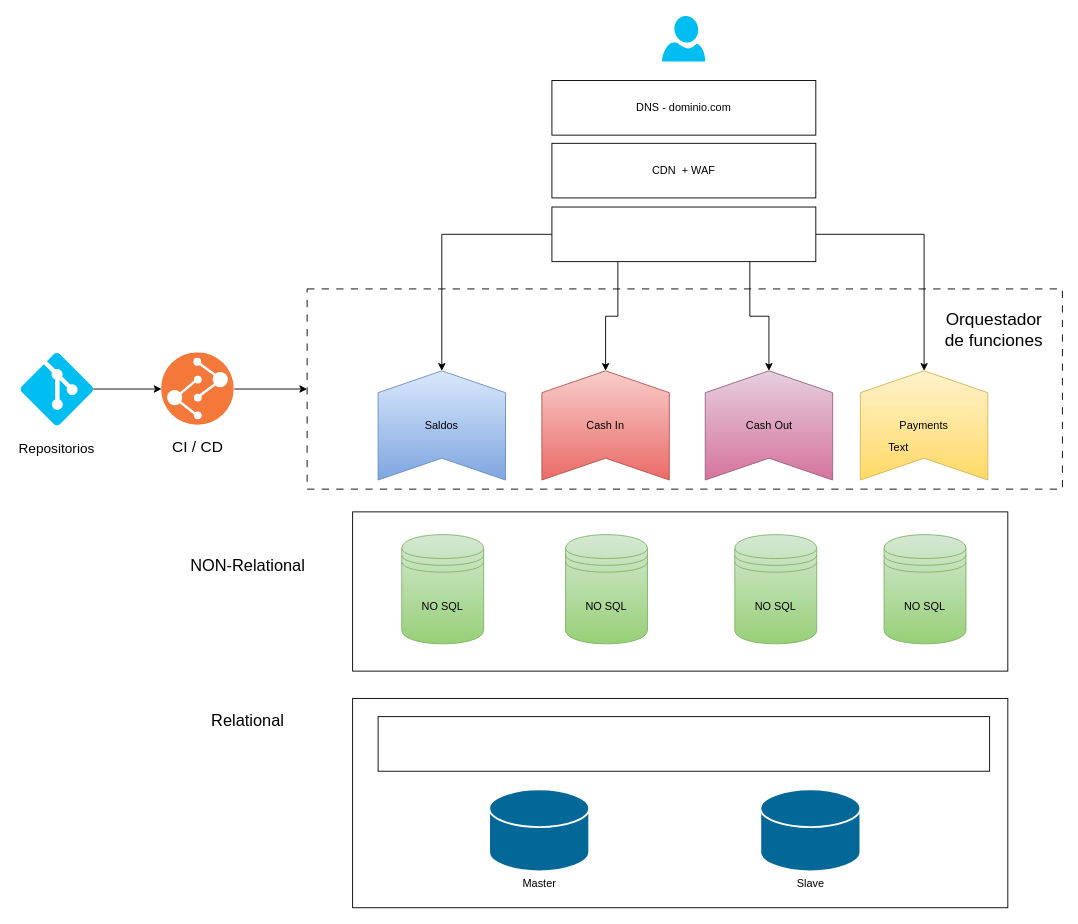
Image size: 1078x924. Some labels were removed from this diagram. Each missing label, with the centre of its shape:
API Gate Way: (x=683, y=234)
Proxy de base de datos: (x=683, y=743)
